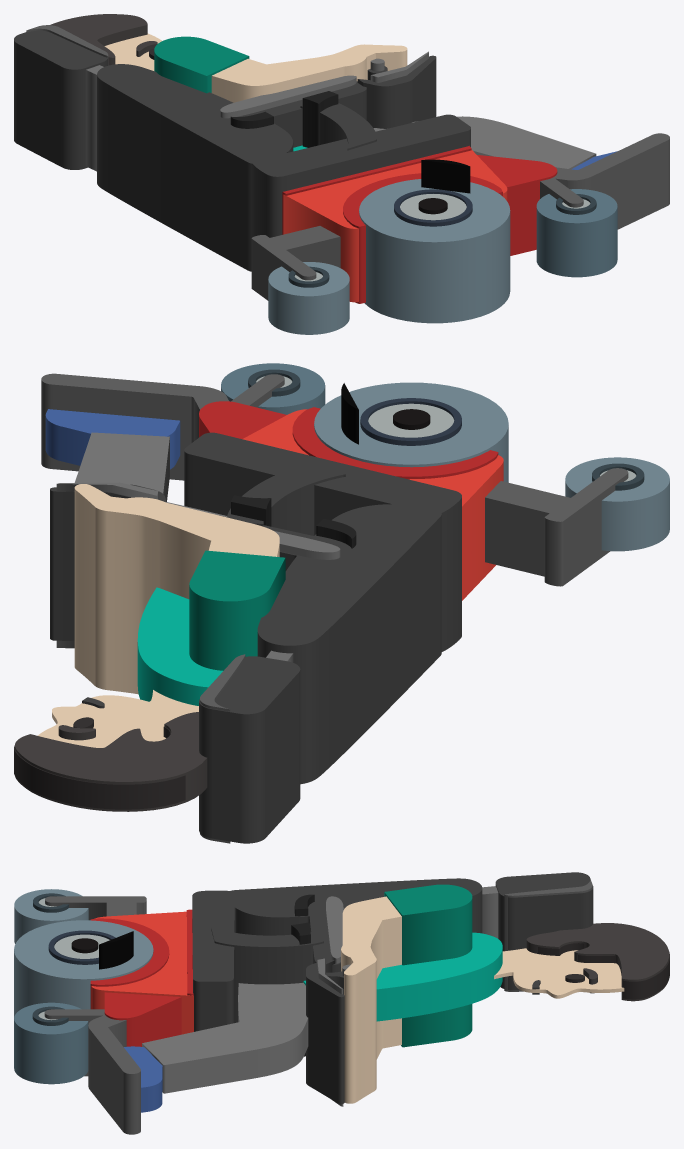
The model's file is emoji_u1f468_1f3fb_200d_1f9bc_200d_27a1.glb.
3 views of the same model, one above another, from view 1: azimuth 30°, elevation 25°; view 2: azimuth 150°, elevation 25°; view 3: azimuth 270°, elevation 25° (orthographic). The views are drawn at different scales.
Parts seen in each view (by area): view 1: emoji_u1f468_1f3fb_200d_1f9bc_200d_27a1; view 2: emoji_u1f468_1f3fb_200d_1f9bc_200d_27a1; view 3: emoji_u1f468_1f3fb_200d_1f9bc_200d_27a1.
Boxes of the visible parts, <box> form: emoji_u1f468_1f3fb_200d_1f9bc_200d_27a1: <box>14,14,669,334</box>; emoji_u1f468_1f3fb_200d_1f9bc_200d_27a1: <box>14,363,669,843</box>; emoji_u1f468_1f3fb_200d_1f9bc_200d_27a1: <box>14,872,669,1134</box>.
Bounding box in the file's own units: 0.0237 × 0.0074 × 0.0333.
